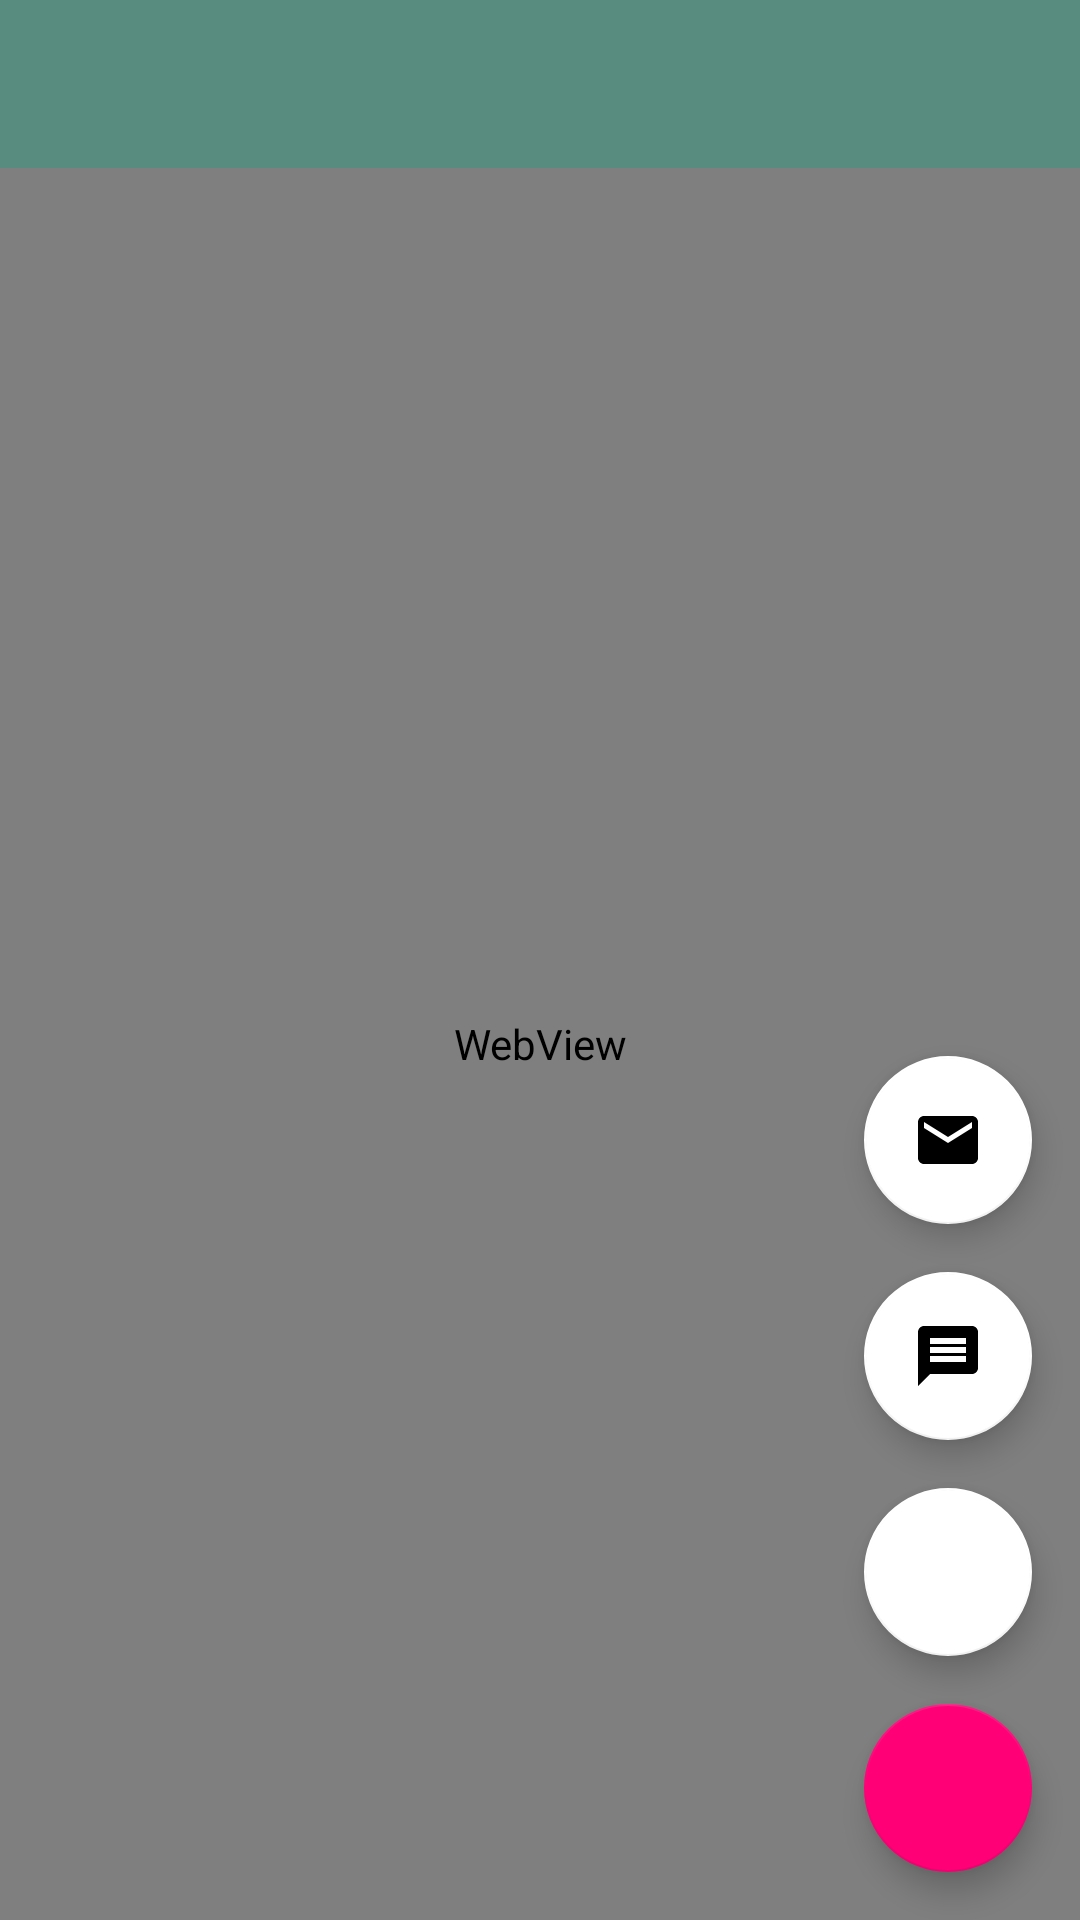

Where to tap for icons on this 1080px x 1920px app screen, as point (x, y):
email: point (948, 1140)
message: point (948, 1356)
